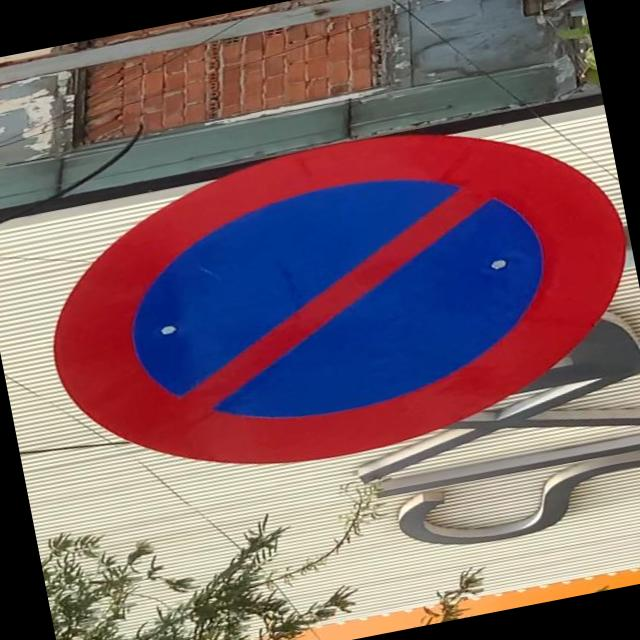P-131a: (24, 94, 640, 503)
